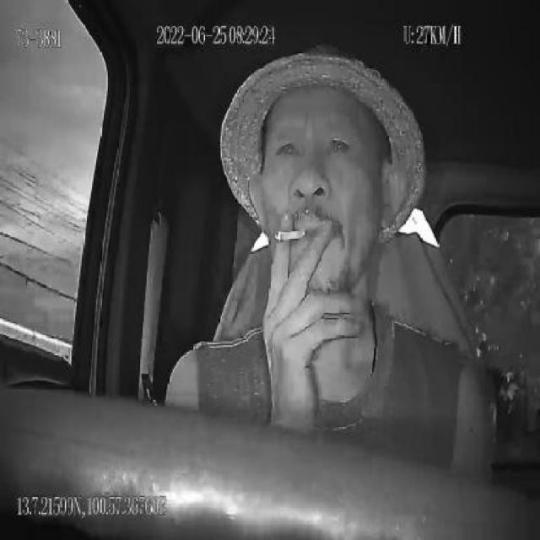smoking: (274, 224, 306, 246)
